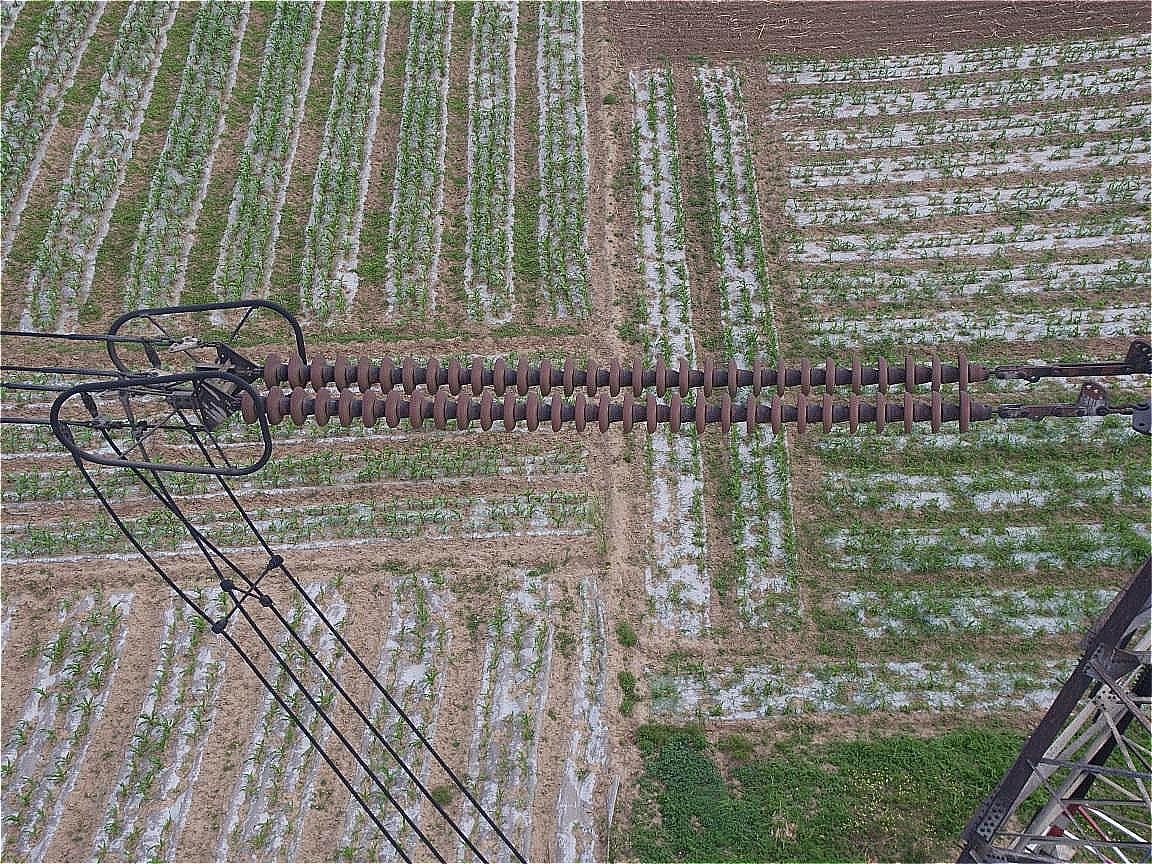insultor1: (242, 353, 975, 435)
